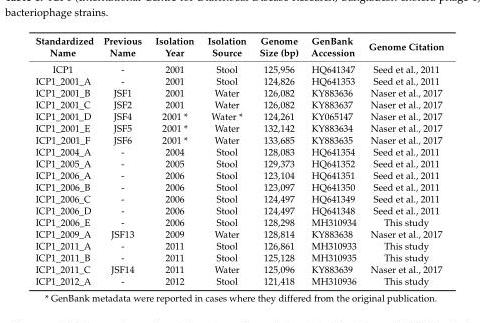table: (34, 34, 443, 286)
table column: (361, 34, 443, 286), (34, 34, 97, 286), (304, 34, 361, 286), (147, 34, 200, 286), (200, 34, 252, 286), (252, 34, 304, 286), (97, 34, 147, 286)
table column header: (34, 34, 443, 60)
table row: (34, 34, 443, 60), (34, 60, 443, 74), (34, 74, 443, 86), (34, 86, 443, 98), (34, 98, 443, 110), (34, 121, 443, 133), (34, 133, 443, 145), (34, 145, 443, 157), (34, 168, 443, 180), (34, 180, 443, 192), (34, 192, 443, 204), (34, 215, 443, 227), (34, 227, 443, 239), (34, 239, 443, 251), (34, 251, 443, 263), (34, 274, 443, 286), (34, 110, 443, 121), (34, 157, 443, 168), (34, 204, 443, 215), (34, 263, 443, 274)
